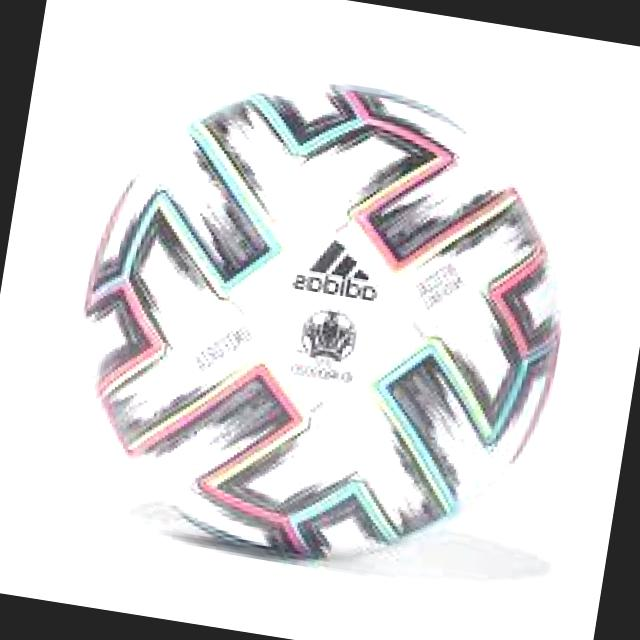Soccer Ball: (35, 38, 608, 611)
